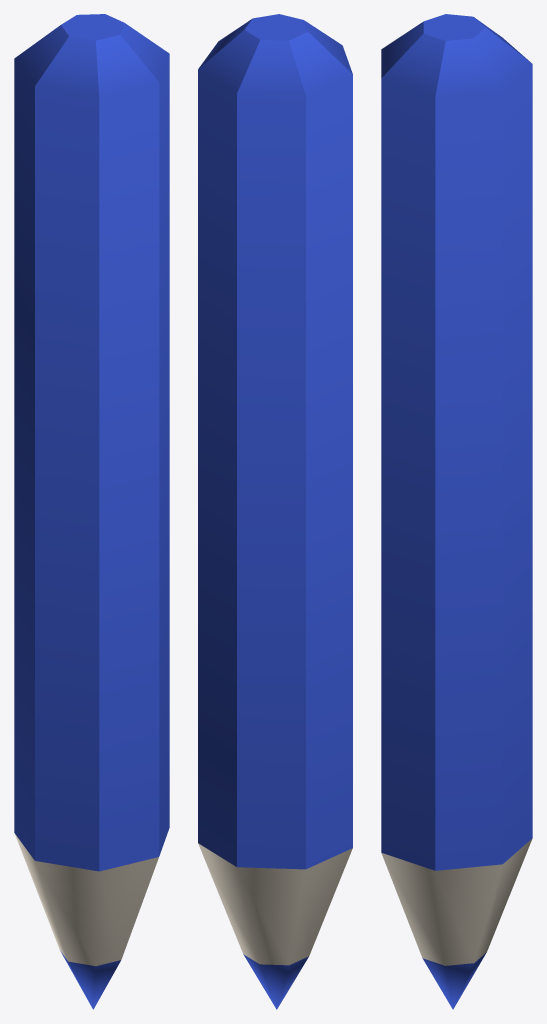
Rendered from BluePen.fbx.
3 renders of one model, left to right at view 1: azimuth 30°, elevation 25°; view 2: azimuth 150°, elevation 25°; view 3: azimuth 270°, elevation 25°, orthographic.
Parts seen in each view (by area): view 1: BluePen; view 2: BluePen; view 3: BluePen.
Part boxes in pixels (bbox=[...]): BluePen: bbox=[14, 14, 169, 1009]; BluePen: bbox=[198, 14, 352, 1009]; BluePen: bbox=[381, 14, 532, 1009].
Bounding box in the file's own units: 131 × 910 × 127.
